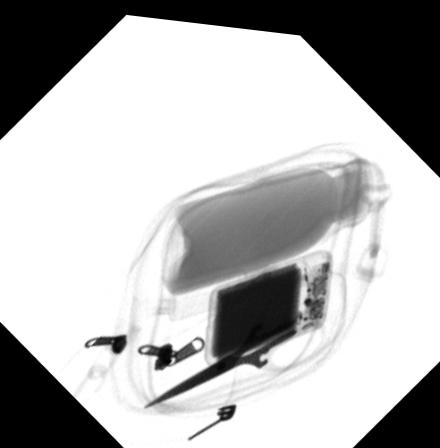Powerbank: (200, 237, 333, 359)
Scissors: (142, 273, 325, 407)
